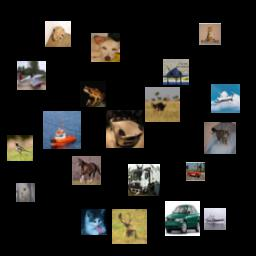airplane: (17, 61, 46, 90), (211, 84, 240, 113), (163, 59, 189, 85)
automobile: (106, 110, 144, 148), (165, 201, 200, 236), (186, 162, 205, 181)
bird: (145, 87, 180, 122), (7, 135, 33, 161)
cat: (204, 122, 236, 154), (81, 209, 107, 235), (199, 23, 221, 45), (16, 183, 35, 202)
deer: (112, 209, 147, 244)
dog: (91, 33, 120, 62)
frog: (45, 21, 71, 47), (80, 81, 106, 107)
ship: (43, 111, 81, 149), (204, 208, 226, 230)
truck: (128, 164, 160, 196)
